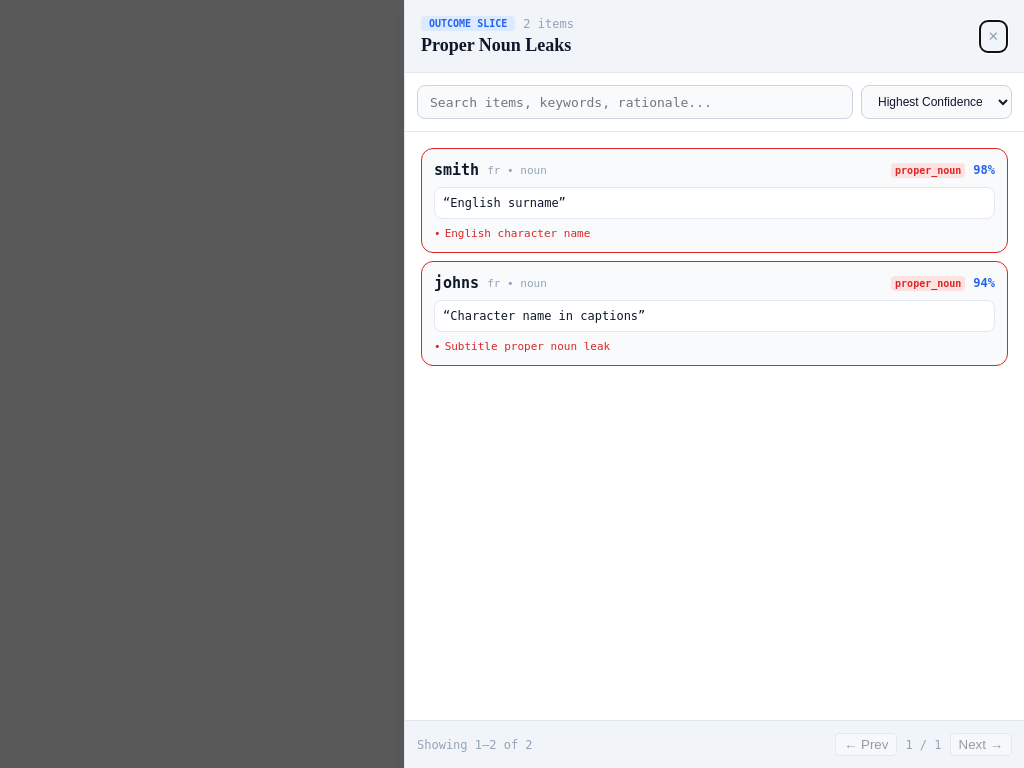
PipelineGraph & StepGraph › opens DatasetSliceDrawer and filters by search query
Expected: the heading "Proper Noun Leaks" is shown, [421,35,574,56]
Expected: the text "johns" is shown, [434,274,479,292]
# Search filter
Step 1. Type "johns" into the field with placeholder "Search items, keywords, rationale..." → (635, 102), box [417,85,853,119]
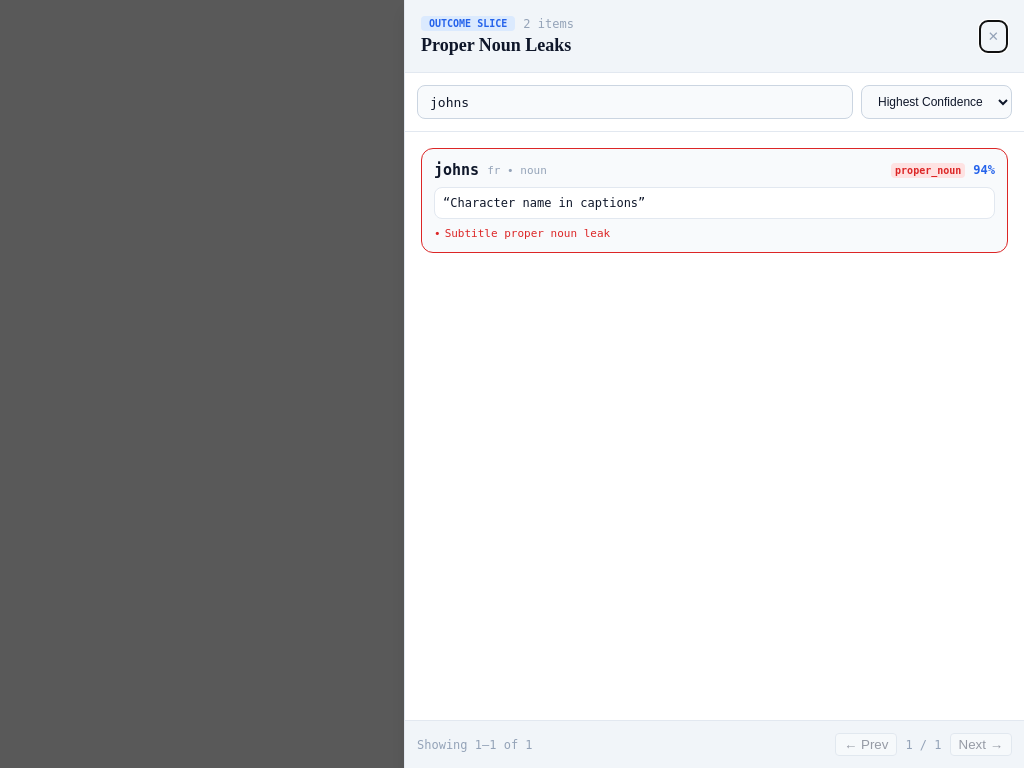
Expected: the text "johns" is shown, [434,161,479,179]
Expected: the text "smith" is gone
